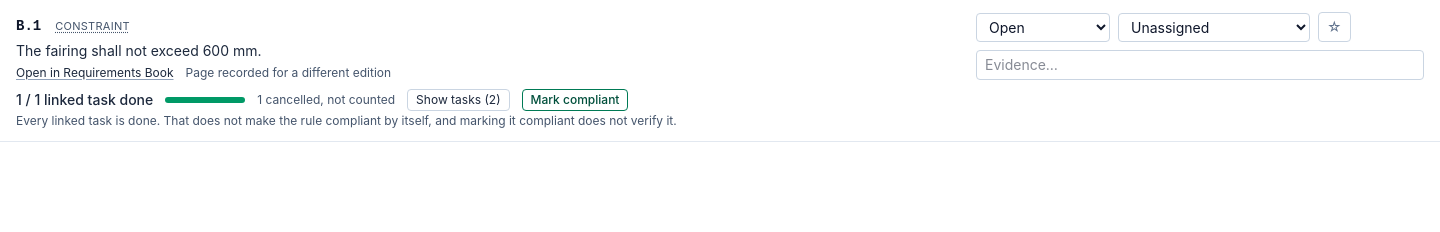
it: linked work › leaves cancelled tasks out of the count but still lists them
Expected: the text with test id "link-progress" reads "1 / 1 linked task done", top-left (16, 90), bottom-right (153, 108)
Expected: the text with test id "link-detail" reads "1 cancelled, not counted", top-left (257, 92), bottom-right (395, 106)
Click the button "Show tasks (2)".
click(458, 100)  # box top-left (407, 88), bottom-right (510, 110)
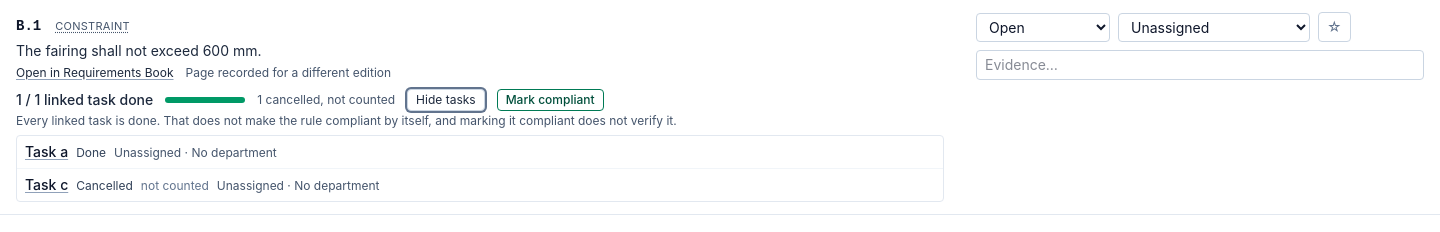
Expected: the link "Task c" is shown, top-left (25, 174), bottom-right (68, 194)
